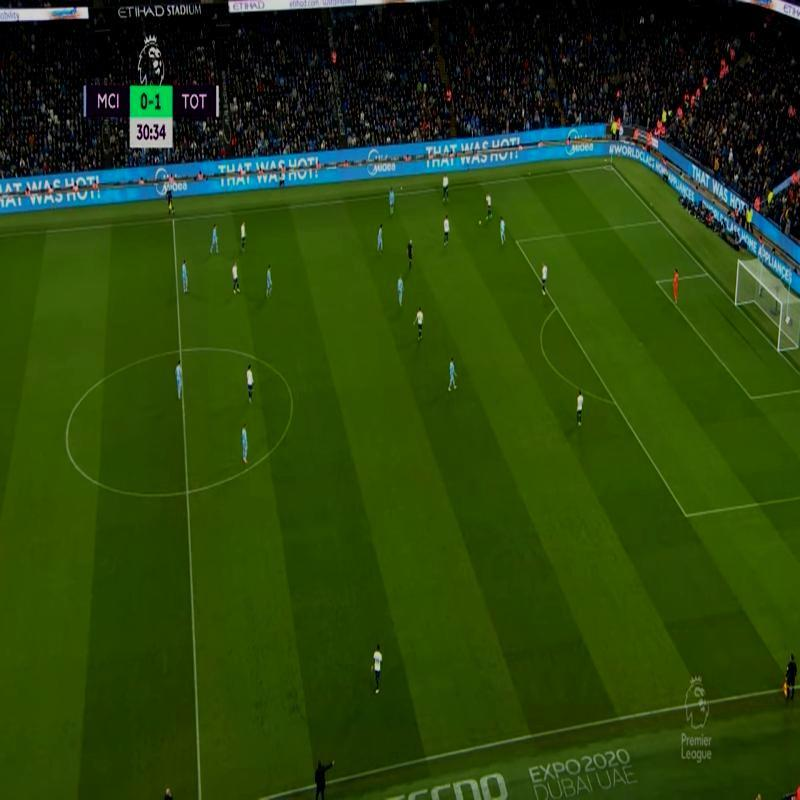1: (604, 160, 618, 175)
10: (550, 299, 564, 317)
11: (608, 394, 624, 412)
12: (680, 508, 696, 524)
13: (166, 212, 180, 229)
14: (172, 343, 188, 359)
15: (180, 483, 196, 501)
2: (655, 215, 665, 227)
3: (702, 264, 713, 284)
7: (652, 276, 662, 290)
8: (746, 389, 762, 405)
9: (510, 233, 524, 246)
c: (58, 430, 75, 446), (284, 392, 299, 406)
